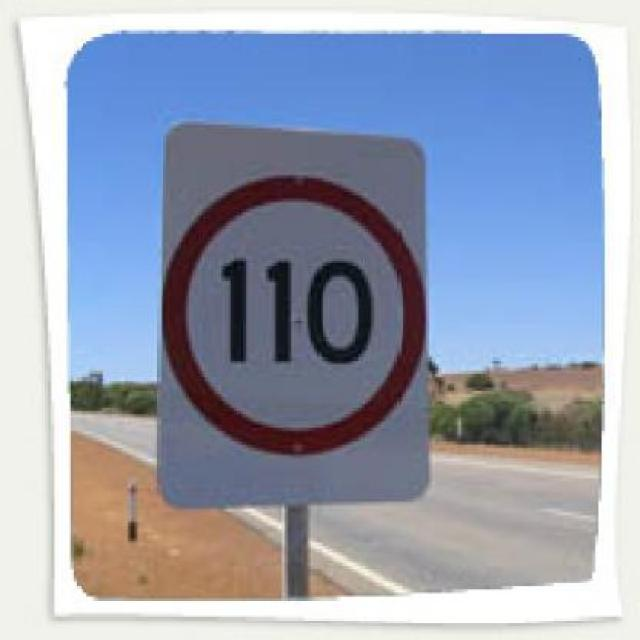speed limit 110: (163, 176, 426, 452)
